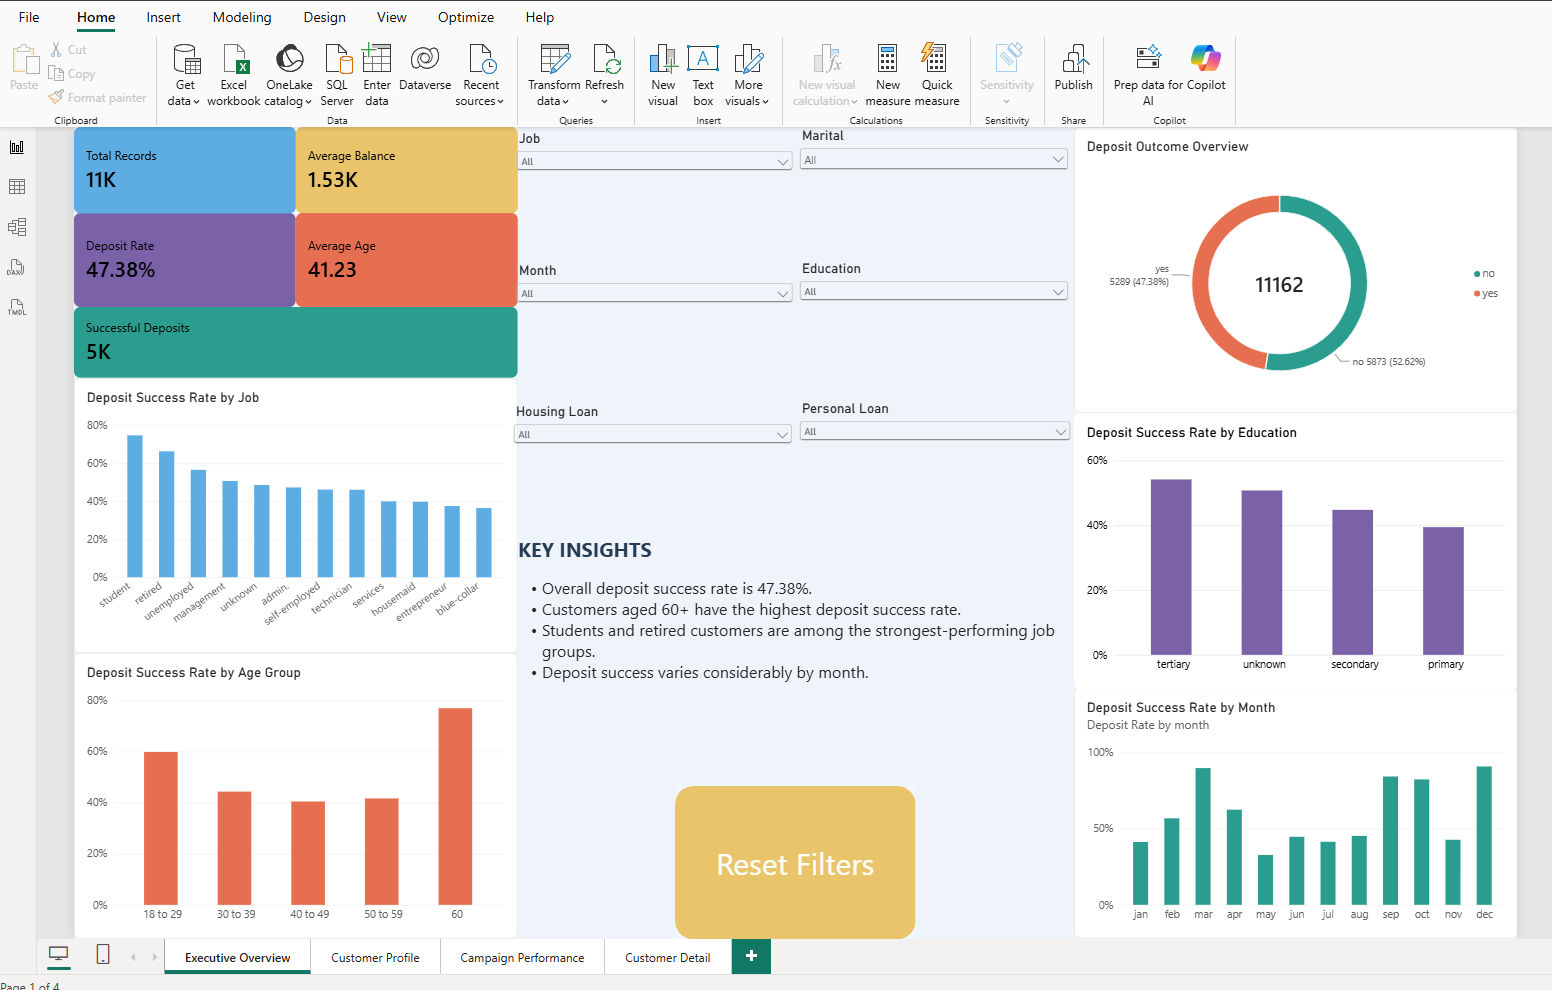

Layout of this report page (visuals, bound fields, positions):
{"tool":"powerbi","page":{"name":"Executive Overview","canvas":[1920,1080],"ordinal":0},"visuals":[{"type":"clusteredColumnChart","title":"Deposit Success Rate by Age Group","fields":{"Category":["bank.Age Group"],"Y":["bank.Deposit Rate"]},"box":[0,700,590,380],"z":0},{"type":"cardVisual","fields":{"Data":["bank.Successful Deposits"]},"box":[0,239.3,590,94.3],"z":1000},{"type":"cardVisual","fields":{"Data":["bank.Deposit Rate"]},"box":[0,115,295,125],"z":2000},{"type":"cardVisual","fields":{"Data":["bank.Average Balance"]},"box":[295,0,295,115],"z":3000},{"type":"cardVisual","fields":{"Data":["bank.Average Age"]},"box":[295,115,295,125],"z":4000},{"type":"clusteredColumnChart","title":"Deposit Success Rate by Job","fields":{"Category":["bank.job"],"Y":["bank.Deposit Rate"]},"box":[0,334,590,366],"z":5000},{"type":"clusteredColumnChart","title":"\tDeposit Success Rate by Month","fields":{"Category":["bank.month"],"Y":["bank.Deposit Rate"]},"box":[1330,746.7,590,333.3],"z":6000},{"type":"clusteredColumnChart","title":"Deposit Success Rate by Education","fields":{"Category":["bank.education"],"Y":["bank.Deposit Rate"]},"box":[1330,380,590,366.7],"z":7000},{"type":"donutChart","title":"Deposit Outcome Overview","fields":{"Category":["bank.deposit"],"Y":["bank.Total Records"]},"box":[1330,0,590,380],"z":8000},{"type":"slicer","fields":{"Values":["bank.job"]},"box":[583.3,3.3,376.7,176.7],"z":9000},{"type":"slicer","fields":{"Values":["bank.marital"]},"box":[960,0,366.7,176.7],"z":10000},{"type":"slicer","fields":{"Values":["bank.education"]},"box":[960,176.7,366.7,186.7],"z":11000},{"type":"slicer","fields":{"Values":["bank.education"]},"box":[583.3,180,376.7,186.7],"z":12000},{"type":"slicer","fields":{"Values":["bank.housing"]},"box":[580,366.7,380,176.7],"z":13000},{"type":"slicer","fields":{"Values":["bank.loan"]},"box":[960,363.3,370,176.7],"z":14000},{"type":"actionButton","box":[800,876.7,320,204],"z":15000},{"type":"cardVisual","fields":{"Data":["bank.Total Records"]},"box":[0,0,295,115],"z":16000},{"type":"textbox","box":[590,542.9,740,258.6],"z":16001}]}

Visuals, with their boxes on the page's 1920x1080 design canvas (x1, y1, x2, y2). These are canvas units, not pixel positions in the 1552x990 screenshot, which may show the page scaled, cropped or inside an application window:
"Deposit Success Rate by Age Group" clusteredColumnChart: region(0, 700, 590, 1080)
cardVisual - bank.Successful Deposits: region(0, 239, 590, 334)
cardVisual - bank.Deposit Rate: region(0, 115, 295, 240)
cardVisual - bank.Average Balance: region(295, 0, 590, 115)
cardVisual - bank.Average Age: region(295, 115, 590, 240)
"Deposit Success Rate by Job" clusteredColumnChart: region(0, 334, 590, 700)
"	Deposit Success Rate by Month" clusteredColumnChart: region(1330, 747, 1920, 1080)
"Deposit Success Rate by Education" clusteredColumnChart: region(1330, 380, 1920, 747)
"Deposit Outcome Overview" donutChart: region(1330, 0, 1920, 380)
slicer - bank.job: region(583, 3, 960, 180)
slicer - bank.marital: region(960, 0, 1327, 177)
slicer - bank.education: region(960, 177, 1327, 363)
slicer - bank.education: region(583, 180, 960, 367)
slicer - bank.housing: region(580, 367, 960, 543)
slicer - bank.loan: region(960, 363, 1330, 540)
actionButton: region(800, 877, 1120, 1081)
cardVisual - bank.Total Records: region(0, 0, 295, 115)
textbox: region(590, 543, 1330, 802)
